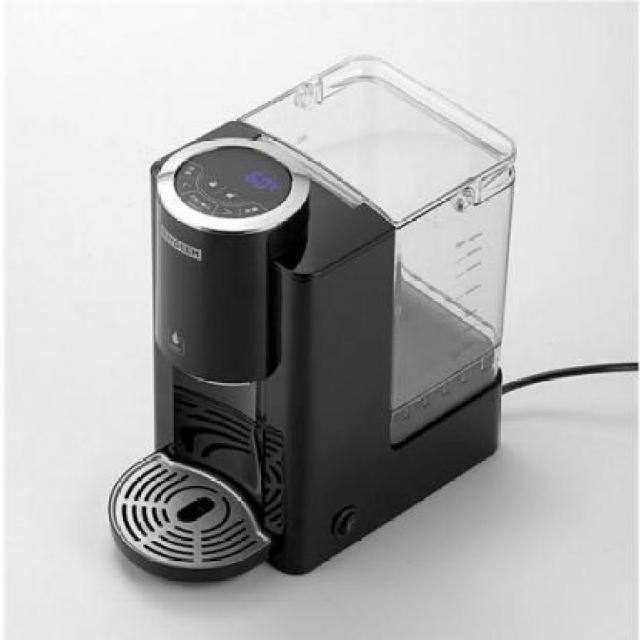cooler: (108, 42, 518, 590)
